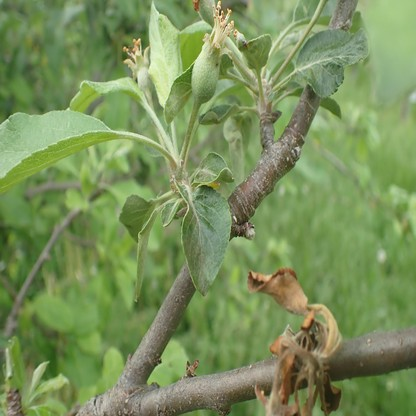scab: (183, 209, 212, 294)
